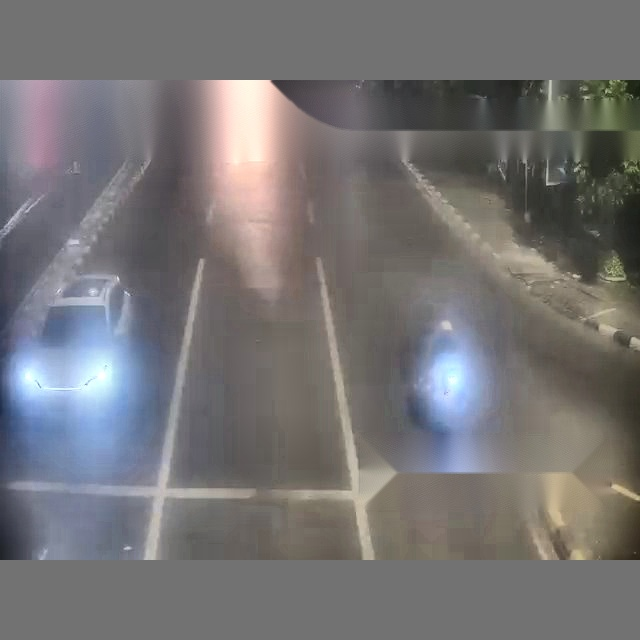Bis: (0, 274, 173, 558)
